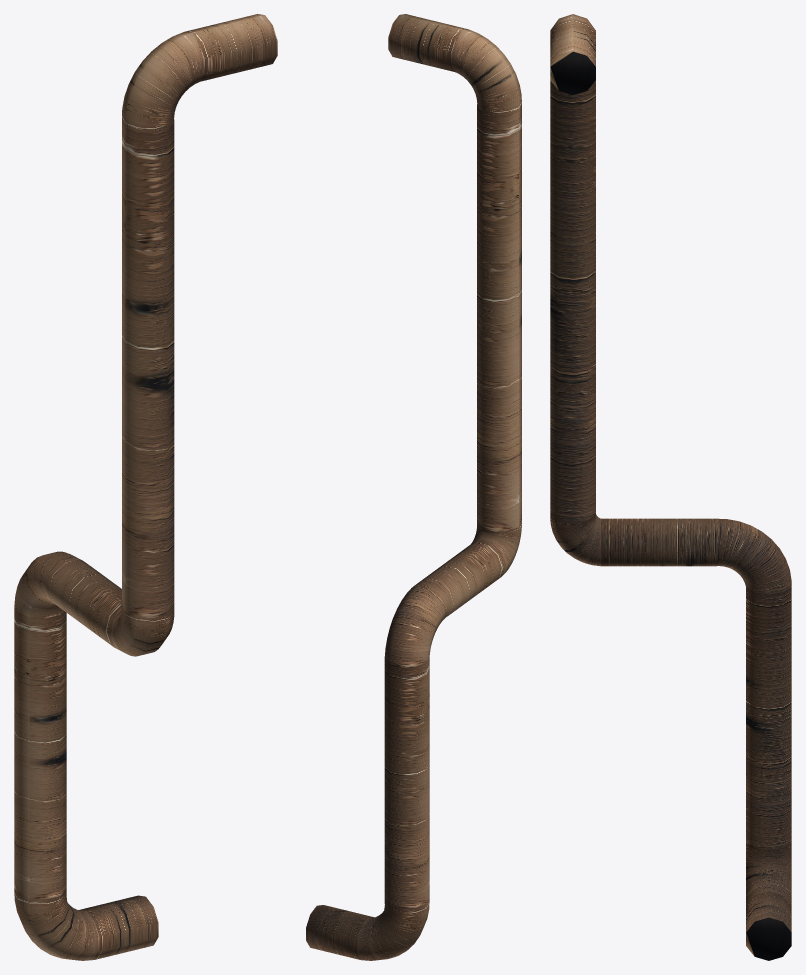
The model's file is wallPipe2.fbx.
The picture shows the model from 3 angles, left to right: view 1: azimuth 30°, elevation 25°; view 2: azimuth 150°, elevation 25°; view 3: azimuth 270°, elevation 25°; orthographic projection. The views are drawn at different scales.
Visible parts, largest first — view 1: pipeB200; view 2: pipeB200; view 3: pipeB200.
Part boxes in pixels (box(x1,y1,x2,y2)): pipeB200: box(14, 14, 277, 960); pipeB200: box(306, 14, 521, 960); pipeB200: box(550, 14, 791, 960).
Size of the model in its own units: 0.834 by 5.73 by 1.37.
